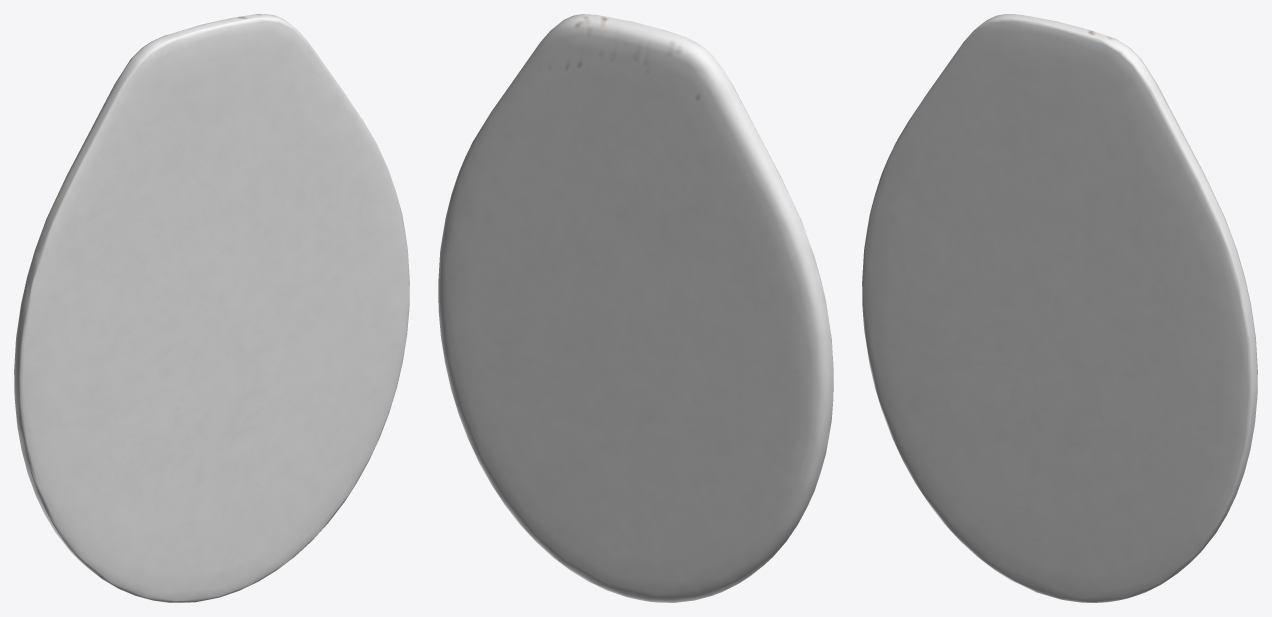
Rendered from Fp_401__Toiletlid.obj.
The picture shows the model from 3 angles, left to right: view 1: azimuth 30°, elevation 25°; view 2: azimuth 150°, elevation 25°; view 3: azimuth 330°, elevation 25°; orthographic projection.
Parts seen in each view (by area): view 1: Fp_401__Toiletlid; view 2: Fp_401__Toiletlid; view 3: Fp_401__Toiletlid.
Part boxes in pixels (bbox=[...]): Fp_401__Toiletlid: bbox=[14, 14, 409, 602]; Fp_401__Toiletlid: bbox=[438, 14, 833, 602]; Fp_401__Toiletlid: bbox=[862, 14, 1257, 602].
Bounding box in the file's own units: 0.4757 × 0.6659 × 0.0301.
Materials: 1 (1 with a texture image).
